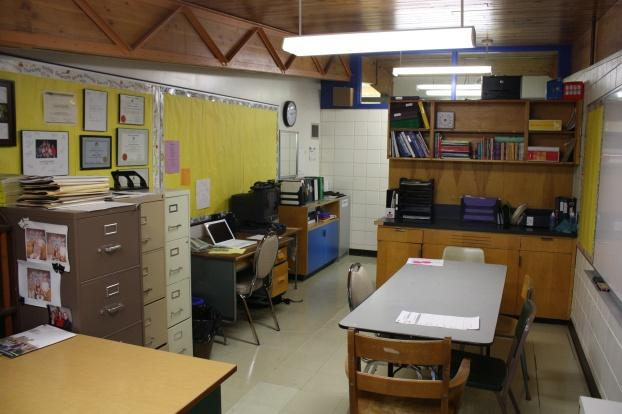Filing Cabinet: (2, 201, 146, 350), (163, 188, 192, 356), (142, 192, 168, 353)
Kursi: (463, 299, 536, 413), (234, 230, 281, 345)
Meja: (338, 253, 509, 358)
Rak: (385, 98, 584, 166)
